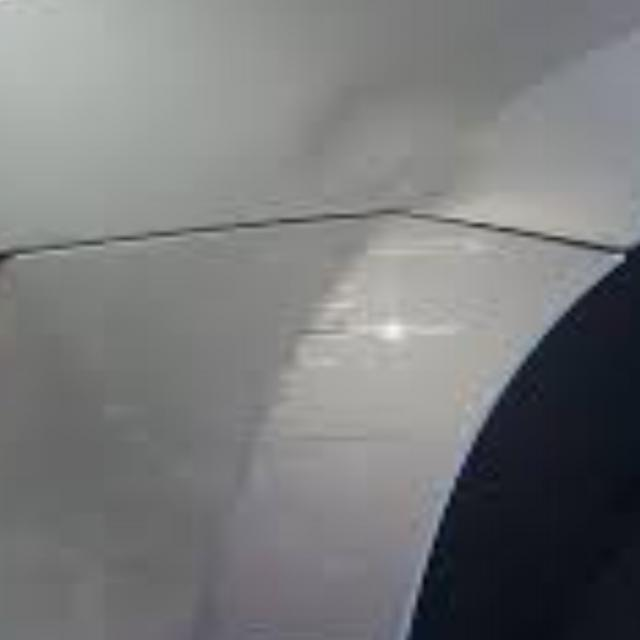dents: (289, 79, 512, 252)
